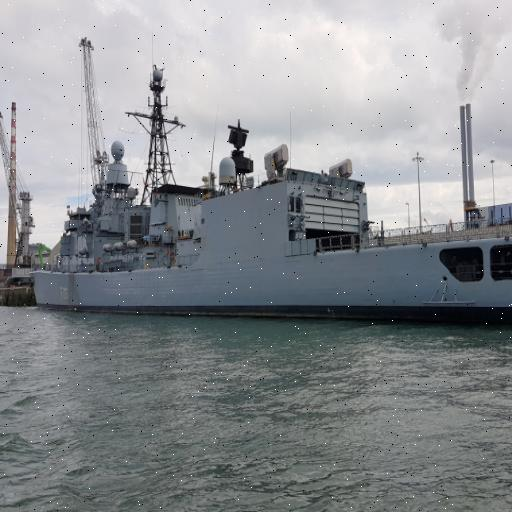Fragata: (28, 62, 512, 334)
